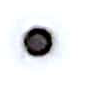cancer: (7, 12, 71, 71)
